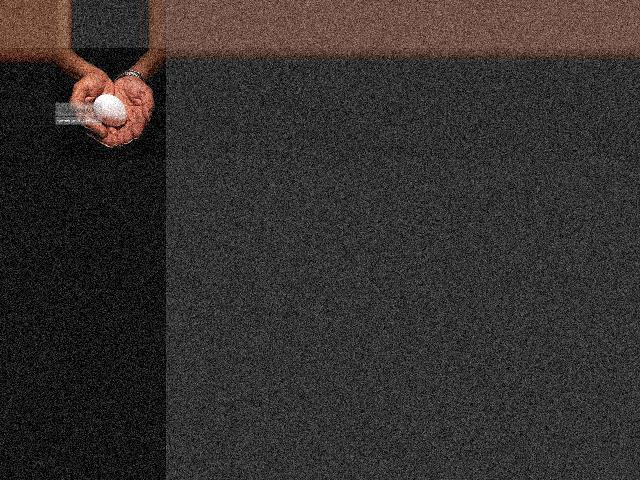egg: (94, 94, 127, 127)
